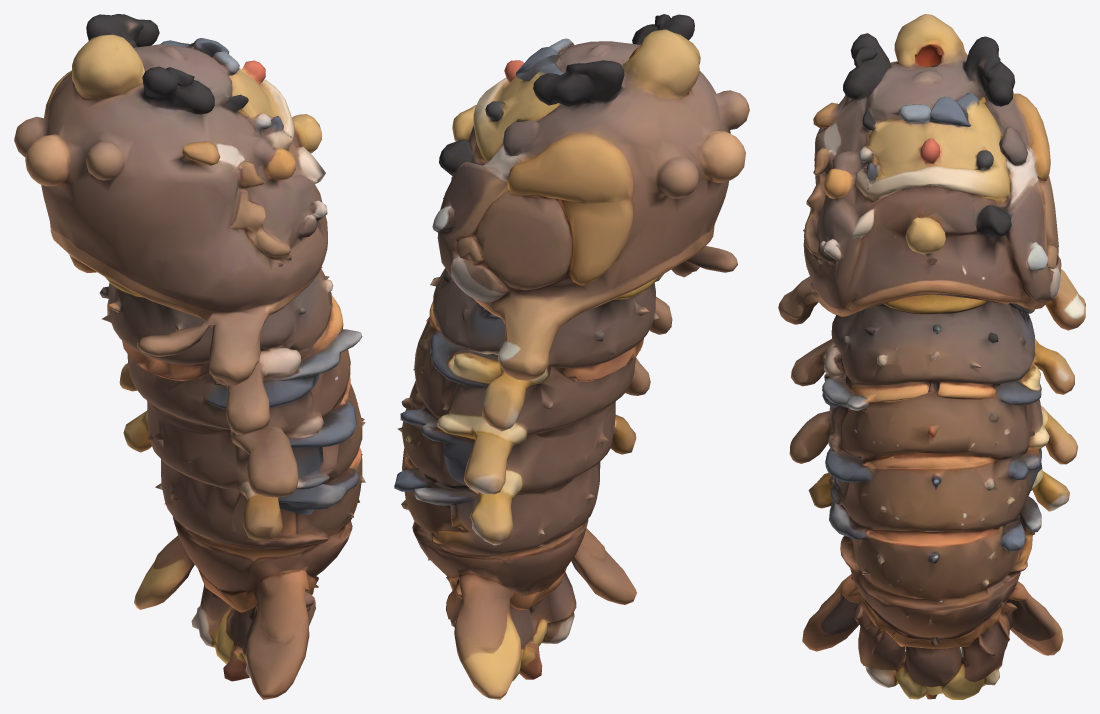
The model's file is body.glb.
3 views of the same model, side by side, from view 1: azimuth 30°, elevation 25°; view 2: azimuth 150°, elevation 25°; view 3: azimuth 270°, elevation 25° (orthographic). The views are drawn at different scales.
Parts seen in each view (by area): view 1: tripo_node_8728a27e-769e-4c5a-8cf2-558de75cb08e; view 2: tripo_node_8728a27e-769e-4c5a-8cf2-558de75cb08e; view 3: tripo_node_8728a27e-769e-4c5a-8cf2-558de75cb08e.
Part boxes in pixels (x1,y1,x2,y2): tripo_node_8728a27e-769e-4c5a-8cf2-558de75cb08e: (14, 14, 365, 699); tripo_node_8728a27e-769e-4c5a-8cf2-558de75cb08e: (394, 14, 749, 699); tripo_node_8728a27e-769e-4c5a-8cf2-558de75cb08e: (778, 14, 1085, 699).
Bounding box in the file's own units: 0.516 × 1 × 0.4479.
1 material, 1 textured.
